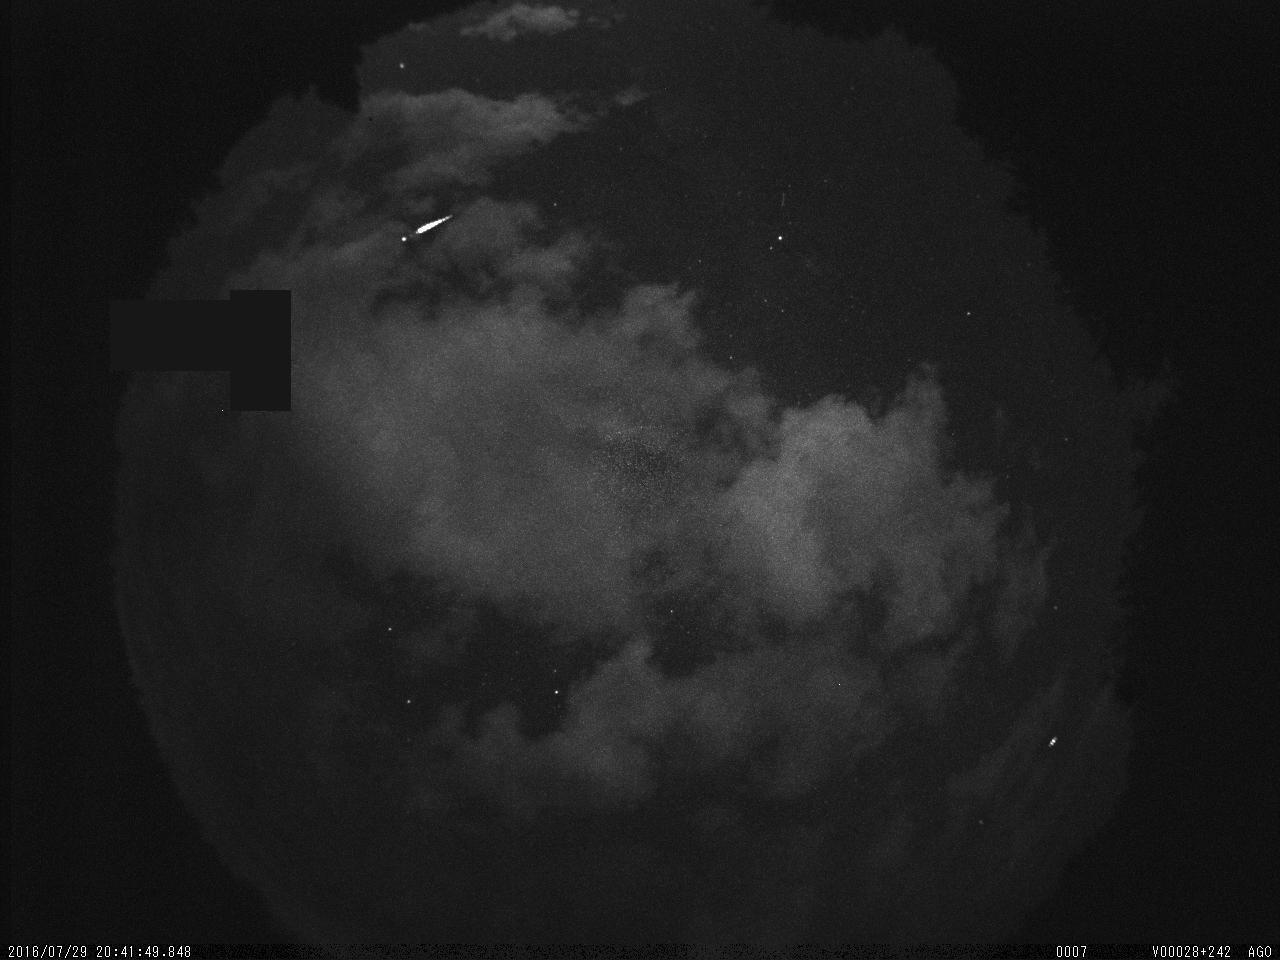meteor: (387, 206, 468, 255)
